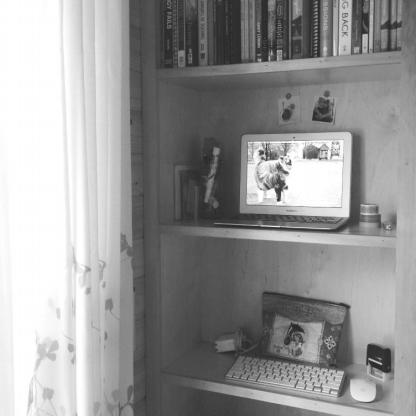board: (214, 129, 350, 233)
